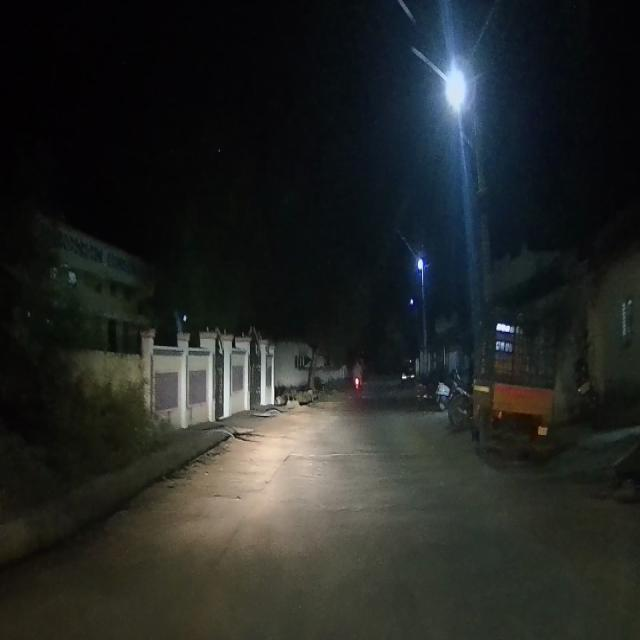auto ahead at: (463, 307, 561, 457)
